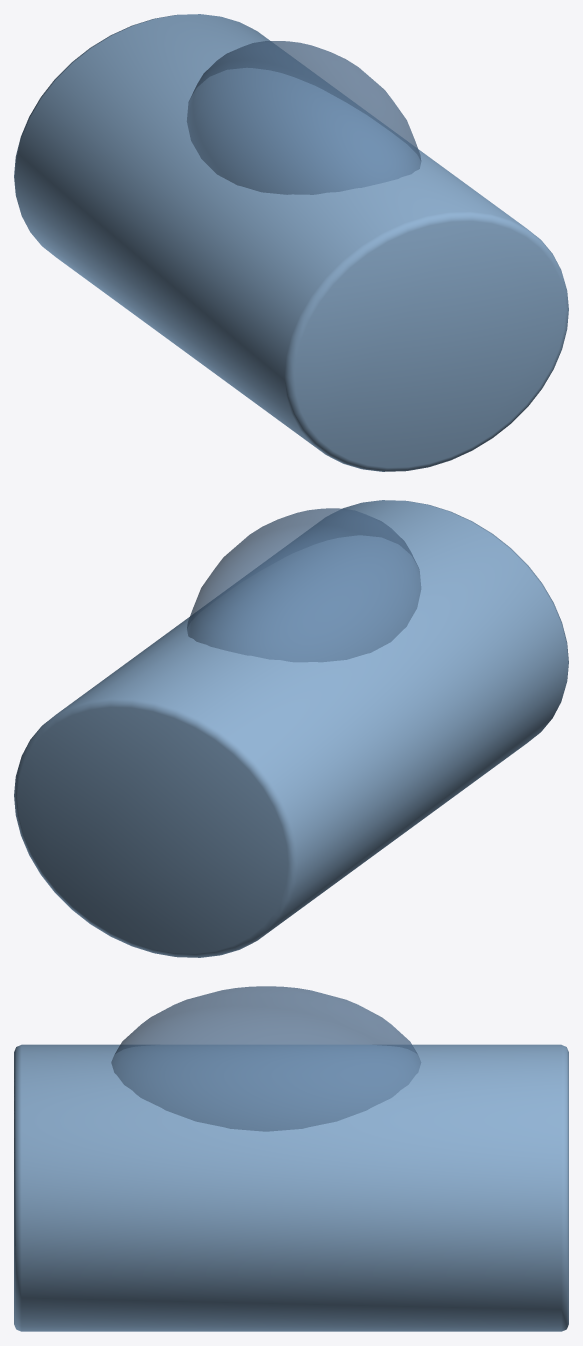
Rendered from cockpit.glb.
3 views of the same model, one above another, from view 1: azimuth 30°, elevation 25°; view 2: azimuth 150°, elevation 25°; view 3: azimuth 270°, elevation 25° (orthographic).
Parts seen in each view (by area): view 1: cockpit; view 2: cockpit; view 3: cockpit.
Part boxes in pixels (x1,y1,x2,y2): cockpit: (14,14,568,471); cockpit: (14,500,568,957); cockpit: (14,986,568,1331).
Size of the model in its own units: 1.3 by 1.4 by 2.2.
